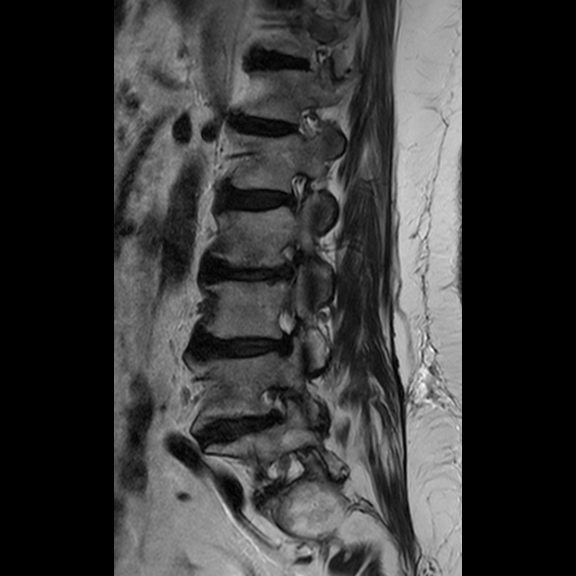LFS0: (248, 374, 302, 437), (269, 160, 318, 225)
